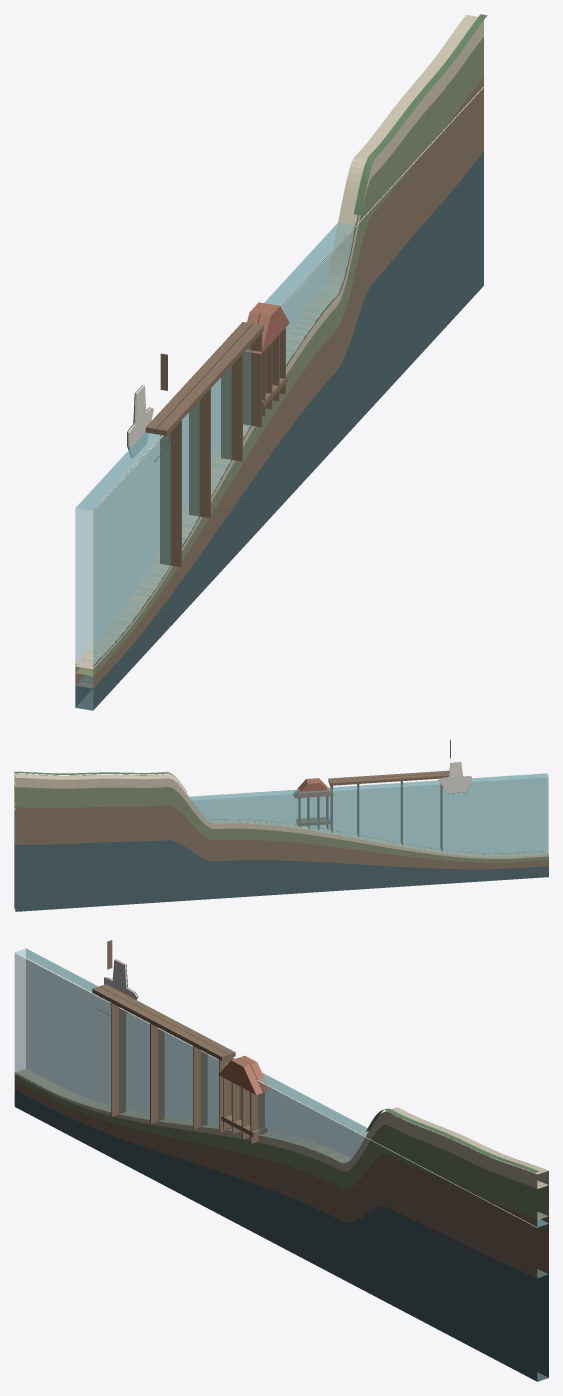
Rendered from section.glb.
3 renders of one model, top to bottom at view 1: azimuth 30°, elevation 25°; view 2: azimuth 150°, elevation 25°; view 3: azimuth 270°, elevation 25°, orthographic. The views are drawn at different scales.
Parts seen in each view (by area): view 1: SECTION_Bed, SECTION_Water, SECTION_Strata_A, SECTION_Land, SECTION_Soil, SECTION_JettyDeck, SECTION_JettyPile_15, SECTION_JettyPile_45, SECTION_JettyPile_78, SECTION_Topsoil, SECTION_JettyPile_98, SECTION_PavilionRoof (+1 smaller); view 2: SECTION_Bed, SECTION_Water, SECTION_Strata_A, SECTION_Soil, SECTION_Land, SECTION_JettyDeck, SECTION_PavilionRoof, SECTION_Boat, SECTION_Topsoil, SECTION_Waterline, SECTION_PavilionDeck; view 3: SECTION_Bed, SECTION_Water, SECTION_Strata_A, SECTION_Soil, SECTION_Land, SECTION_JettyDeck, SECTION_JettyPile_15, SECTION_JettyPile_45, SECTION_PavilionRoof, SECTION_JettyPile_78, SECTION_Topsoil, SECTION_Waterline (+2 smaller).
Boxes of the visible parts, x1,y1,x2,y2 form: SECTION_Bed: (75, 152, 483, 710); SECTION_Water: (75, 222, 355, 665); SECTION_Strata_A: (75, 77, 483, 688); SECTION_Land: (75, 15, 483, 669); SECTION_Soil: (75, 37, 483, 675); SECTION_JettyDeck: (145, 322, 263, 435); SECTION_JettyPile_15: (160, 420, 181, 567); SECTION_JettyPile_45: (189, 388, 210, 518); SECTION_JettyPile_78: (221, 353, 242, 461); SECTION_Topsoil: (354, 14, 487, 215); SECTION_JettyPile_98: (243, 331, 262, 427); SECTION_PavilionRoof: (245, 302, 289, 353); SECTION_Bed: (14, 840, 548, 911); SECTION_Water: (14, 773, 548, 857); SECTION_Strata_A: (14, 804, 548, 869); SECTION_Soil: (14, 783, 548, 862); SECTION_Land: (14, 774, 548, 858); SECTION_JettyDeck: (328, 770, 449, 785); SECTION_PavilionRoof: (293, 778, 333, 798); SECTION_Boat: (438, 762, 471, 793); SECTION_Topsoil: (14, 771, 186, 791); SECTION_Waterline: (14, 773, 547, 808); SECTION_PavilionDeck: (296, 817, 330, 826); SECTION_Bed: (14, 1090, 548, 1381); SECTION_Water: (14, 948, 548, 1227); SECTION_Strata_A: (14, 1080, 548, 1277); SECTION_Soil: (14, 1075, 548, 1219); SECTION_Land: (14, 1069, 548, 1188); SECTION_JettyDeck: (92, 984, 235, 1060); SECTION_JettyPile_15: (111, 1003, 125, 1116); SECTION_JettyPile_45: (150, 1023, 164, 1123); SECTION_PavilionRoof: (218, 1055, 269, 1094); SECTION_JettyPile_78: (193, 1046, 207, 1129); SECTION_Topsoil: (366, 1108, 539, 1172); SECTION_Waterline: (14, 952, 537, 1227).
Size of the model in its own units: 134 by 48.32 by 108.
